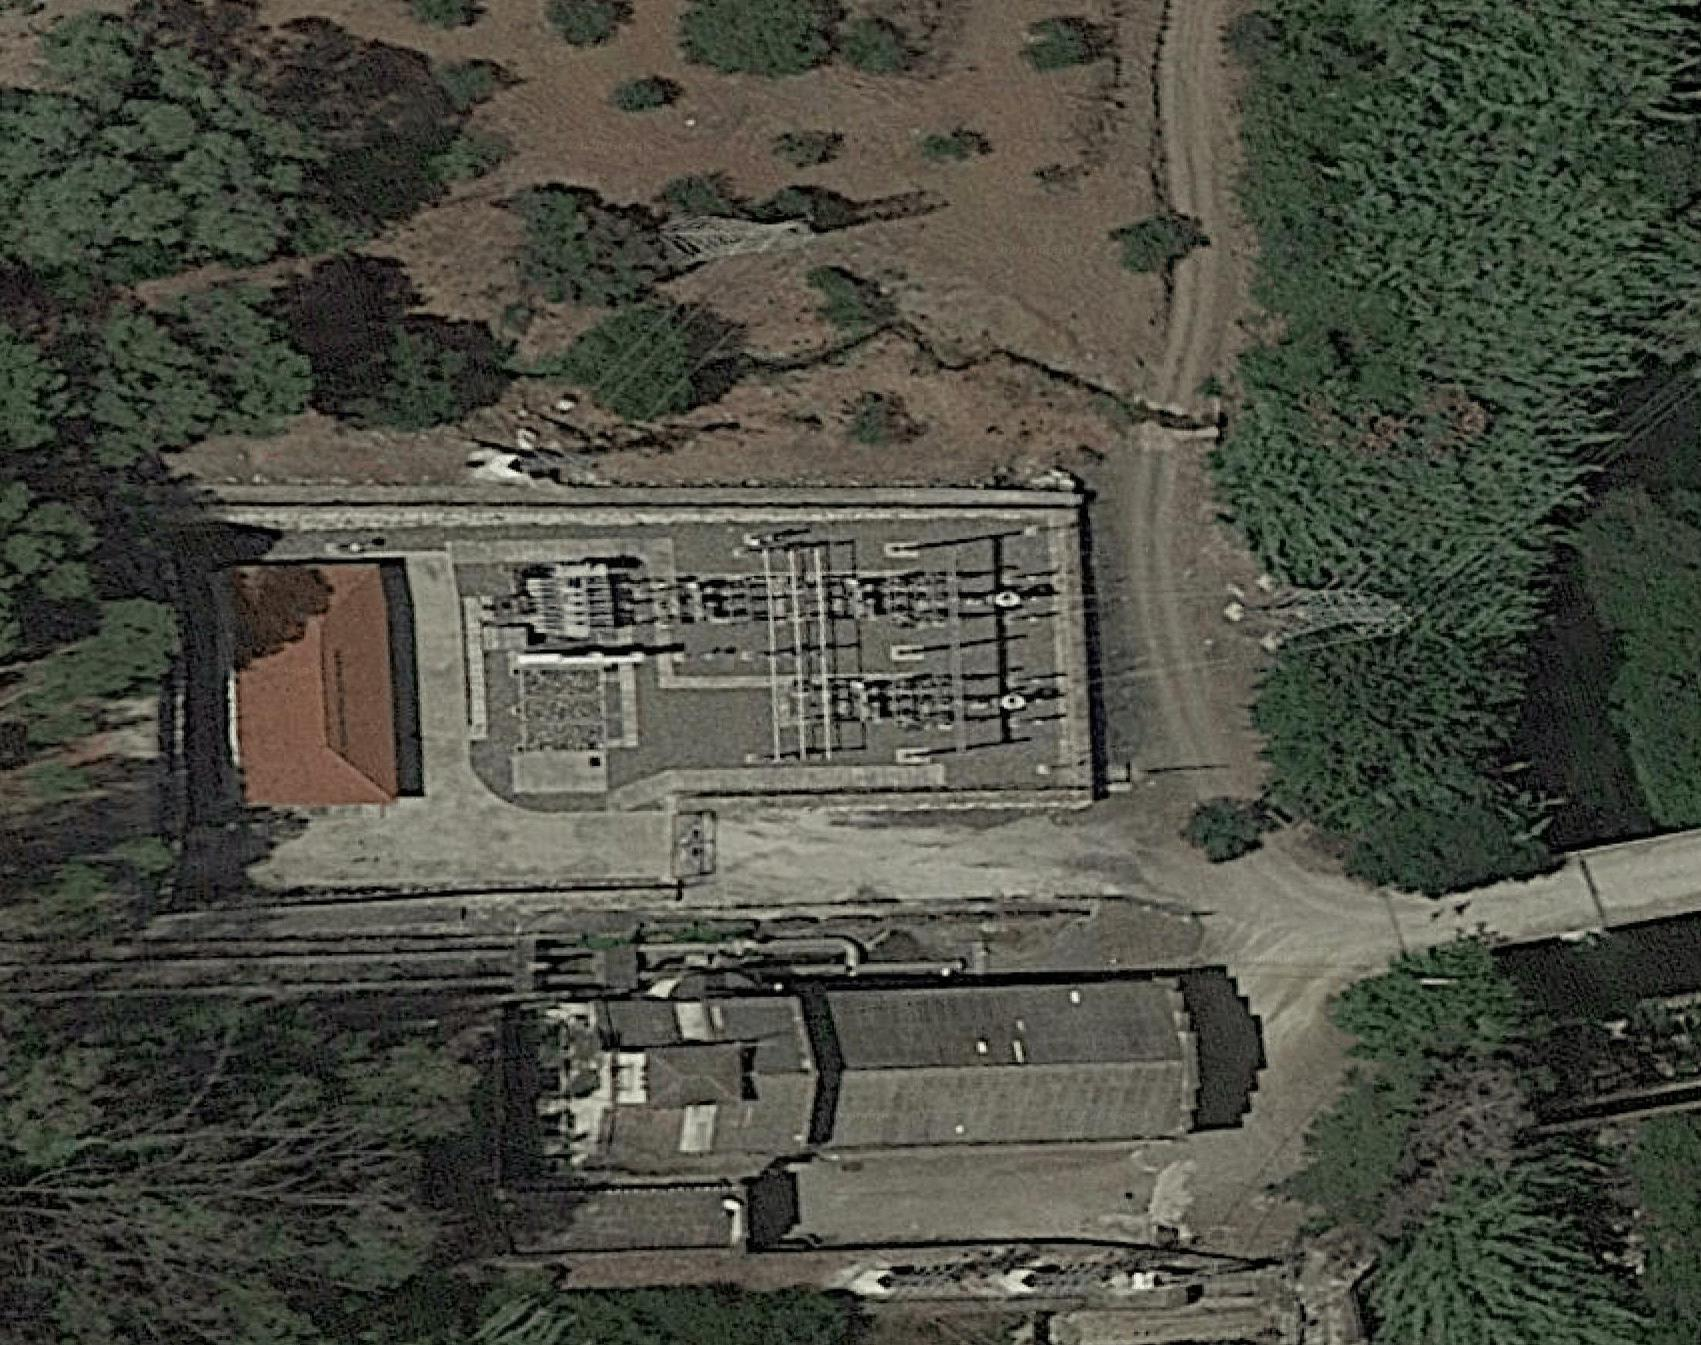substation: (450, 507, 1074, 776)
